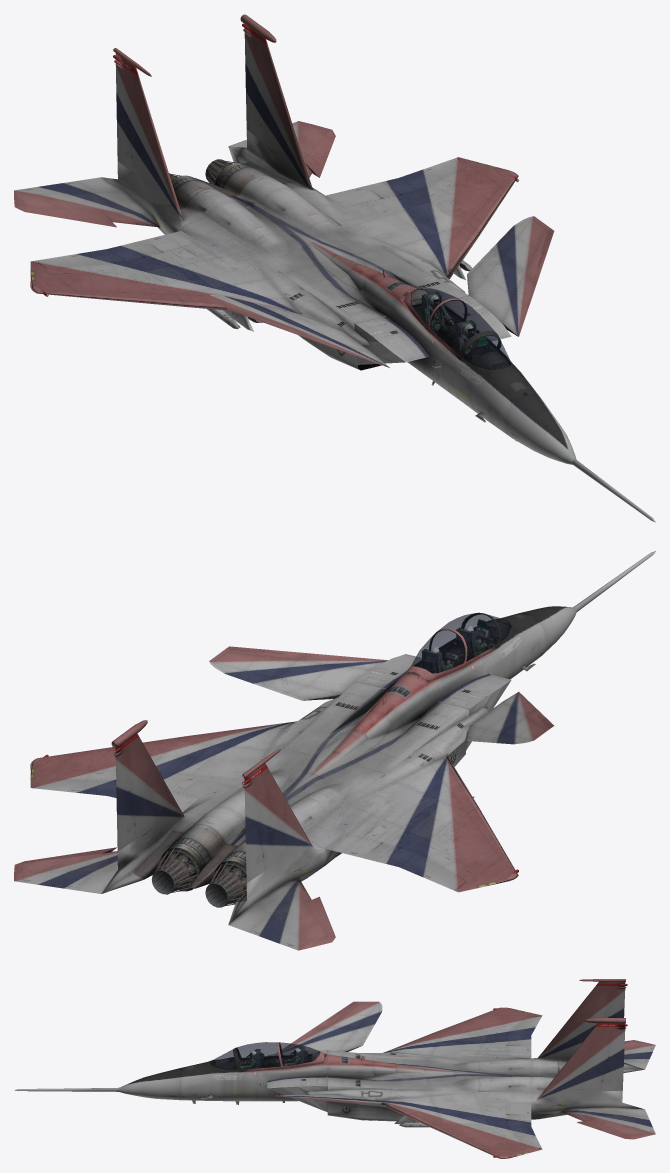
Rendered from F-15_Active.dat.obj.
The picture shows the model from 3 angles, top to bottom: view 1: azimuth 30°, elevation 25°; view 2: azimuth 150°, elevation 25°; view 3: azimuth 270°, elevation 25°; orthographic projection. The views are drawn at different scales.
Visible parts, largest first — view 1: F-15_Active_LOD0, F-15_Active_CanardL01, F-15_Active_ElevatorR01, F-15_Active_Glass02, F-15_Active_CanardR01, F-15_Active_IntakeR01, F-15_Active_BrakeL01, F-15_Active_ElevatorL01, F-15_Active_RudderR01, F-15_Active_RudderL01, F-15_Active_FlapR01, F-15_Active_FlapL01 (+4 smaller); view 2: F-15_Active_LOD0, F-15_Active_CanardL01, F-15_Active_ElevatorR01, F-15_Active_ElevatorL01, F-15_Active_Glass02, F-15_Active_CanardR01, F-15_Active_BrakeL01, F-15_Active_IntakeR01, F-15_Active_EngineL01, F-15_Active_RudderL01, F-15_Active_RudderR01, F-15_Active_FlapR01 (+5 smaller); view 3: F-15_Active_LOD0, F-15_Active_CanardR01, F-15_Active_Glass02, F-15_Active_ElevatorL01, F-15_Active_IntakeL01, F-15_Active_RudderL01, F-15_Active_BrakeL01, F-15_Active_ElevatorR01, F-15_Active_Canopy02, F-15_Active_CanardL01, F-15_Active_FlapL01, F-15_Active_FlapR01 (+3 smaller).
Part boxes in pixels (left/top/right/bottom): F-15_Active_LOD0: left=30, top=14, right=655, bottom=522; F-15_Active_CanardL01: left=467, top=216, right=554, bottom=336; F-15_Active_ElevatorR01: left=14, top=177, right=159, bottom=227; F-15_Active_Glass02: left=411, top=288, right=511, bottom=369; F-15_Active_CanardR01: left=209, top=294, right=389, bottom=367; F-15_Active_IntakeR01: left=354, top=316, right=428, bottom=364; F-15_Active_BrakeL01: left=301, top=242, right=391, bottom=291; F-15_Active_ElevatorL01: left=229, top=121, right=335, bottom=177; F-15_Active_RudderR01: left=115, top=64, right=135, bottom=174; F-15_Active_RudderL01: left=244, top=33, right=263, bottom=142; F-15_Active_FlapR01: left=108, top=231, right=198, bottom=261; F-15_Active_FlapL01: left=326, top=178, right=416, bottom=206; F-15_Active_LOD0: left=30, top=551, right=655, bottom=924; F-15_Active_CanardL01: left=209, top=646, right=387, bottom=700; F-15_Active_ElevatorR01: left=228, top=879, right=335, bottom=950; F-15_Active_ElevatorL01: left=14, top=847, right=117, bottom=893; F-15_Active_Glass02: left=411, top=613, right=511, bottom=673; F-15_Active_CanardR01: left=467, top=692, right=554, bottom=744; F-15_Active_BrakeL01: left=301, top=705, right=392, bottom=779; F-15_Active_IntakeR01: left=438, top=674, right=511, bottom=750; F-15_Active_EngineL01: left=151, top=848, right=200, bottom=894; F-15_Active_RudderL01: left=115, top=751, right=138, bottom=850; F-15_Active_RudderR01: left=244, top=783, right=266, bottom=882; F-15_Active_FlapR01: left=326, top=833, right=416, bottom=866; F-15_Active_LOD0: left=15, top=979, right=644, bottom=1158; F-15_Active_CanardR01: left=276, top=1001, right=382, bottom=1053; F-15_Active_Glass02: left=209, top=1042, right=319, bottom=1069; F-15_Active_ElevatorL01: left=561, top=1107, right=655, bottom=1139; F-15_Active_IntakeL01: left=267, top=1076, right=327, bottom=1111; F-15_Active_RudderL01: left=598, top=1029, right=625, bottom=1091; F-15_Active_BrakeL01: left=364, top=1061, right=454, bottom=1077; F-15_Active_ElevatorR01: left=624, top=1040, right=655, bottom=1069; F-15_Active_Canopy02: left=234, top=1042, right=327, bottom=1072; F-15_Active_CanardL01: left=275, top=1094, right=382, bottom=1103; F-15_Active_FlapL01: left=508, top=1102, right=531, bottom=1126; F-15_Active_FlapR01: left=508, top=1034, right=531, bottom=1058.
Bounding box in the file's own units: 12.93 × 4.35 × 23.17.
